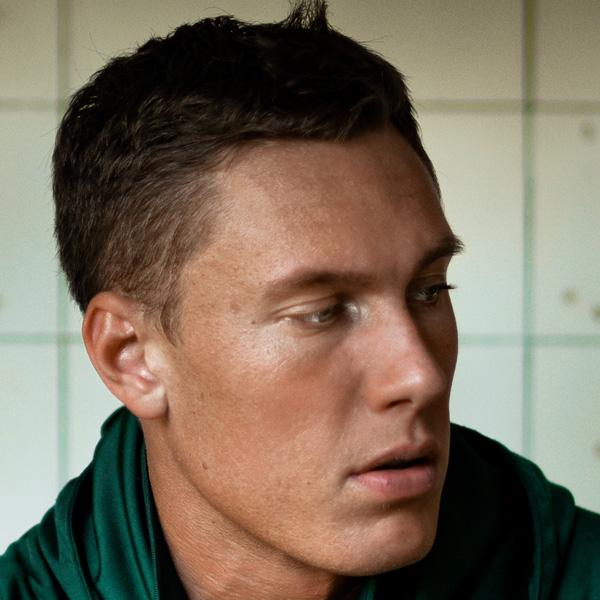Eyes: (268, 282, 363, 343), (401, 266, 454, 314)
